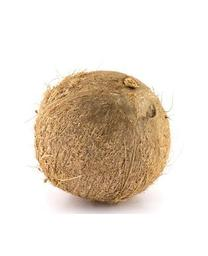coconut: (31, 68, 172, 210)
